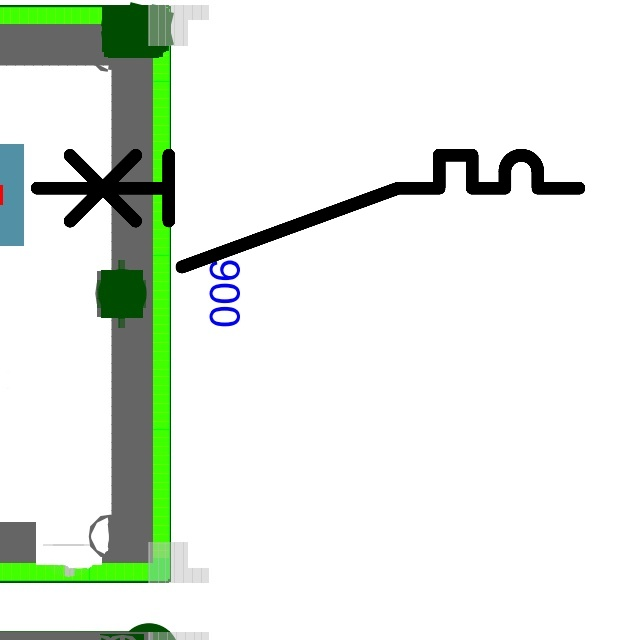interruptor_termomagnetico: (23, 141, 593, 280)
